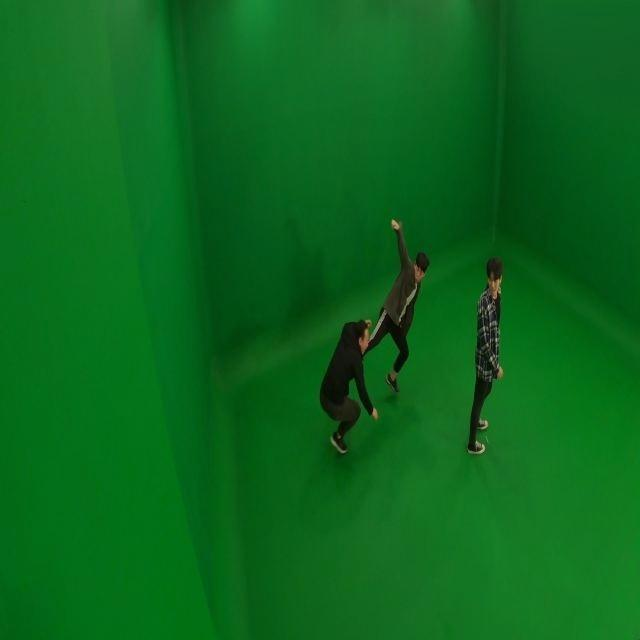fight: (314, 211, 435, 459)
non-fight: (462, 254, 505, 457)
